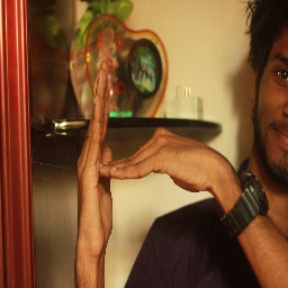Z: (67, 64, 215, 265)
